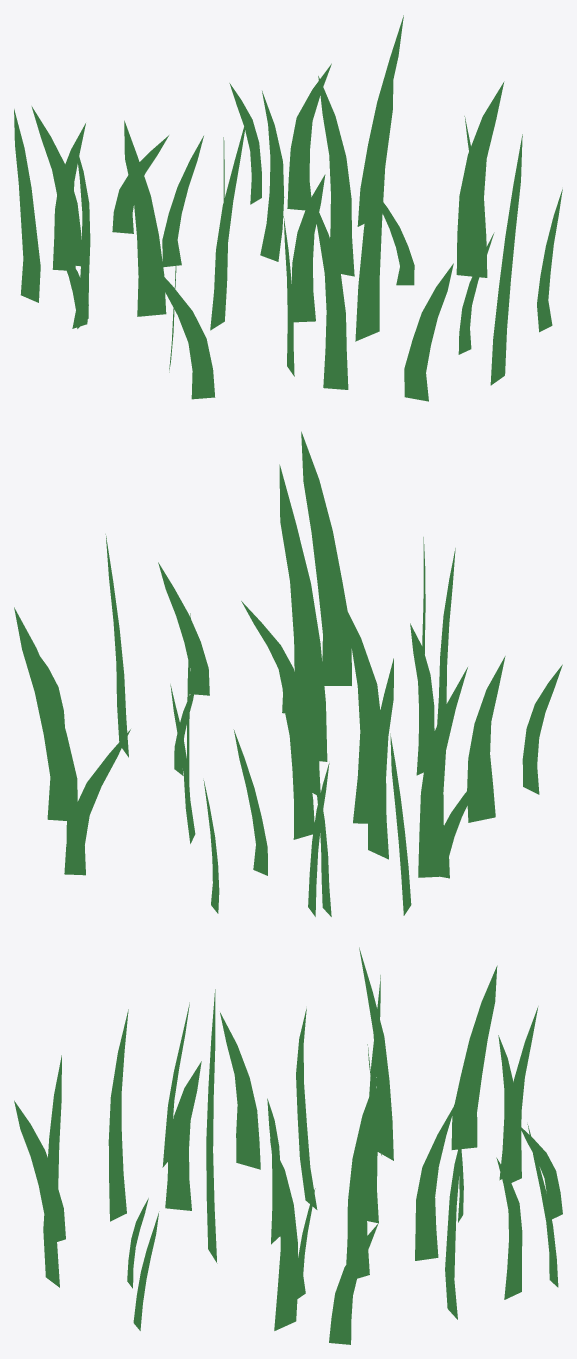
File: MO_Grass-3.fbx
3 renders of one model, top to bottom at view 1: azimuth 30°, elevation 25°; view 2: azimuth 150°, elevation 25°; view 3: azimuth 270°, elevation 25°, orthographic. The views are drawn at different scales.
Visible parts, largest first — view 1: Grass; view 2: Grass; view 3: Grass.
Part boxes in pixels (left/top/right/bottom): Grass: left=14, top=15, right=562, bottom=401; Grass: left=14, top=431, right=562, bottom=916; Grass: left=14, top=947, right=562, bottom=1344.
Size of the model in its own units: 2.22 by 1.41 by 2.49.
